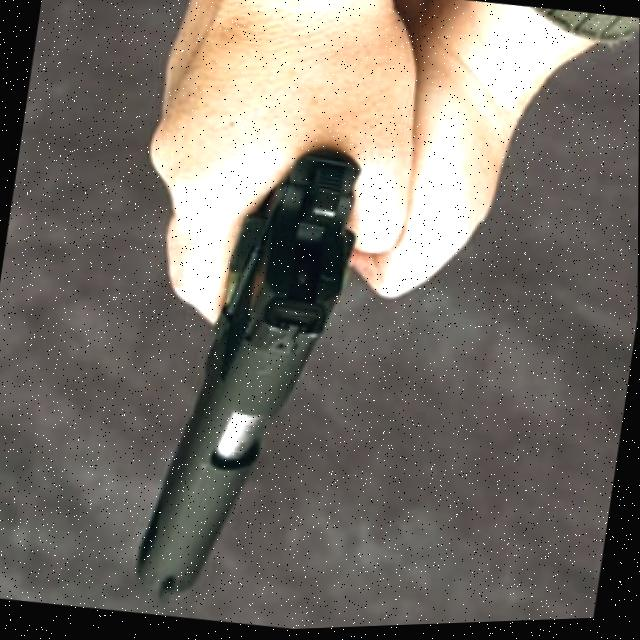pistol: (131, 130, 371, 625)
